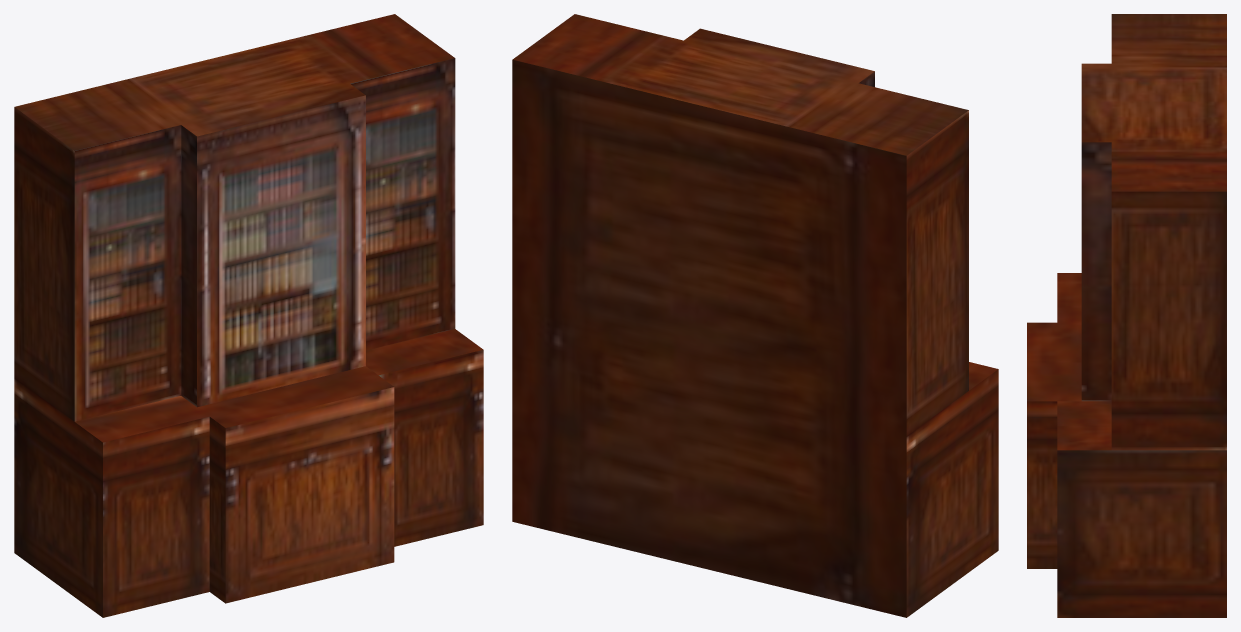
Rendered from estante_a.glb.
The picture shows the model from 3 angles, left to right: view 1: azimuth 30°, elevation 25°; view 2: azimuth 150°, elevation 25°; view 3: azimuth 270°, elevation 25°; orthographic projection. The views are drawn at different scales.
Parts seen in each view (by area): view 1: estante_a; view 2: estante_a; view 3: estante_a.
Part boxes in pixels (<box>): estante_a: <box>14,14,483,617</box>; estante_a: <box>512,14,998,617</box>; estante_a: <box>1027,14,1226,617</box>.
Bounding box in the file's own units: 1.65 × 1.85 × 0.7841.
Materials: 1 (1 with a texture image).
